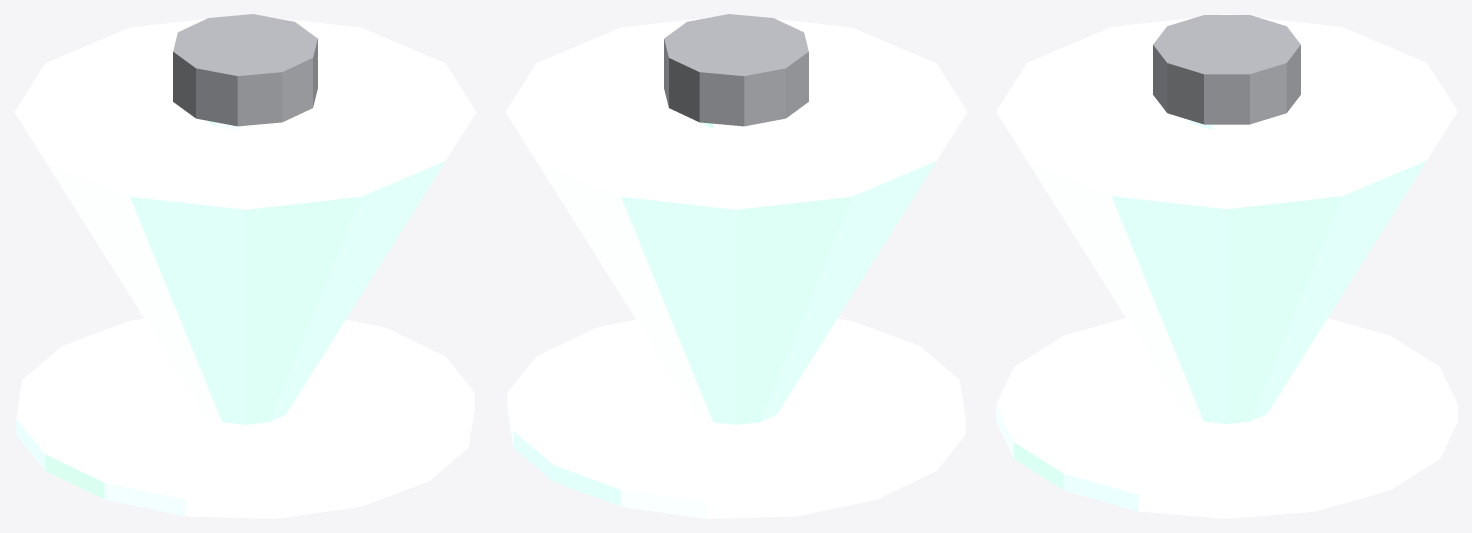
Rendered from item_wide.glb.
3 views of the same model, side by side, from view 1: azimuth 30°, elevation 25°; view 2: azimuth 150°, elevation 25°; view 3: azimuth 270°, elevation 25° (orthographic).
Parts seen in each view (by area): view 1: item_wide; view 2: item_wide; view 3: item_wide.
Boxes of the visible parts, bbox=[...] form: item_wide: bbox=[14, 14, 476, 518]; item_wide: bbox=[505, 14, 967, 518]; item_wide: bbox=[996, 14, 1457, 518].
Size of the model in its own units: 1 by 0.9 by 1.
